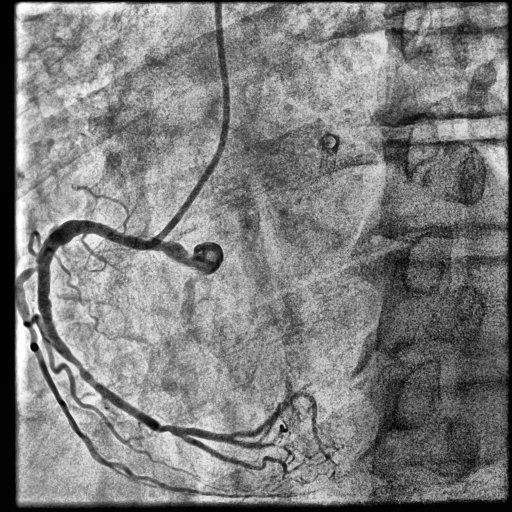pborca: (185, 392, 335, 463)
pda: (180, 436, 306, 474)
rca: (37, 220, 188, 437)
